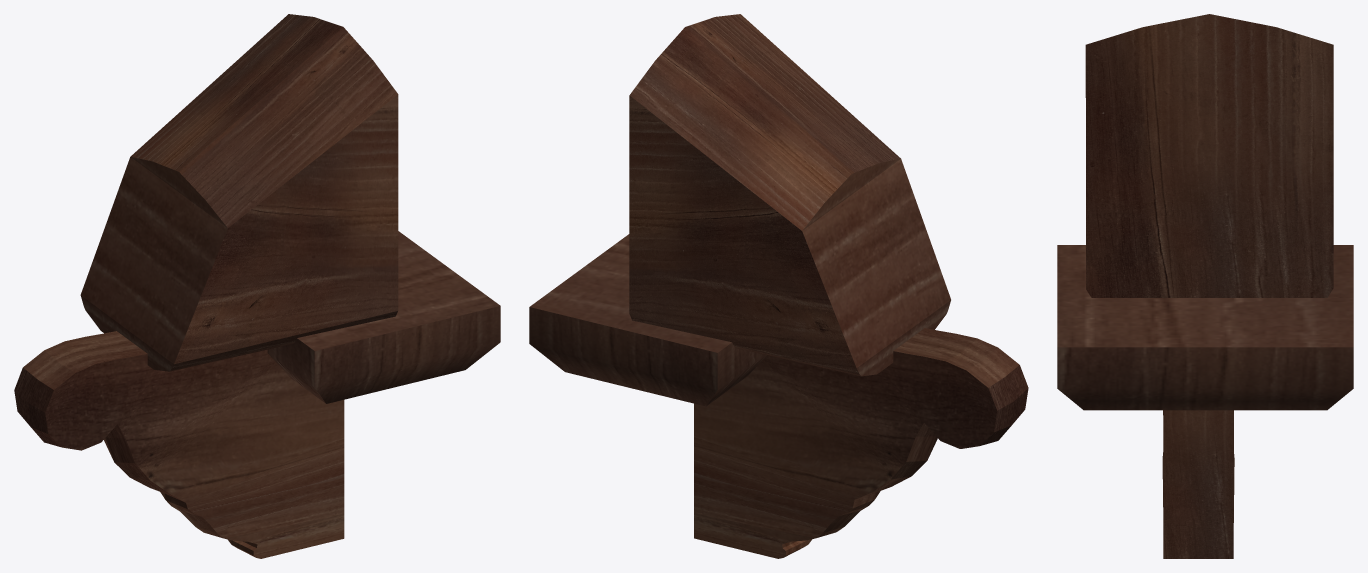
The model's file is SM_R_Beam_32.fbx.
The picture shows the model from 3 angles, left to right: view 1: azimuth 30°, elevation 25°; view 2: azimuth 150°, elevation 25°; view 3: azimuth 270°, elevation 25°; orthographic projection. The views are drawn at different scales.
Parts seen in each view (by area): view 1: SM_R_Beam_32; view 2: SM_R_Beam_32; view 3: SM_R_Beam_32.
Part boxes in pixels (x1=…): SM_R_Beam_32: x1=14, y1=14, x2=500, y2=558; SM_R_Beam_32: x1=529, y1=14, x2=1028, y2=558; SM_R_Beam_32: x1=1057, y1=14, x2=1353, y2=558.
Size of the model in its own units: 87.66 by 48.68 by 101.
Materials: 3 (3 with a texture image).
